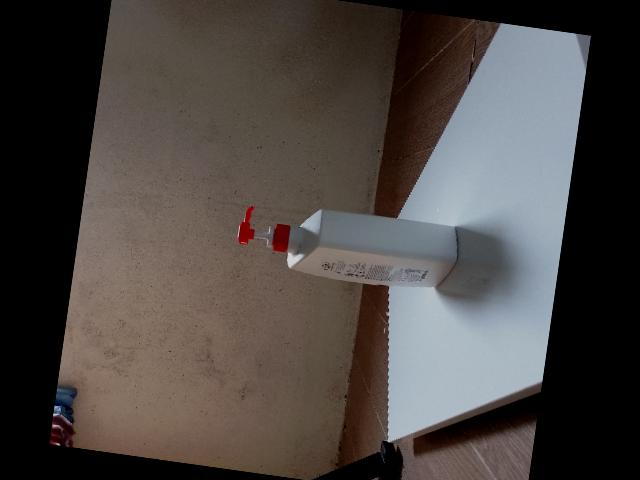life-buoy: (239, 205, 459, 287)
